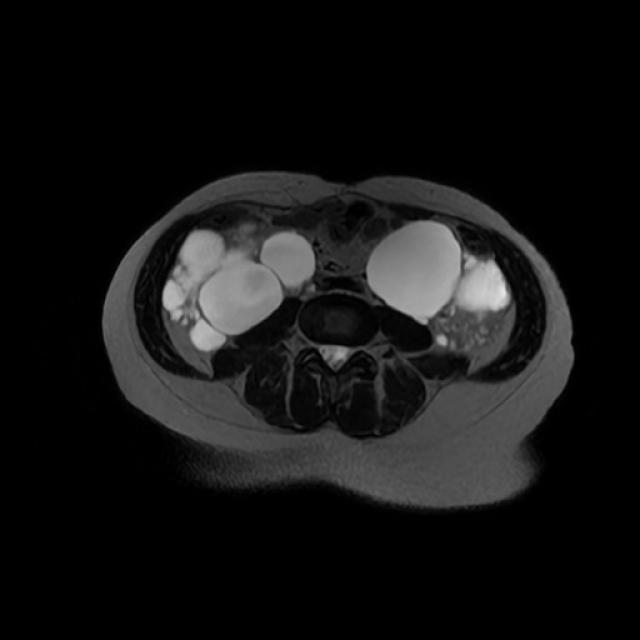sag: (164, 224, 317, 352)
sol: (369, 221, 511, 350)
